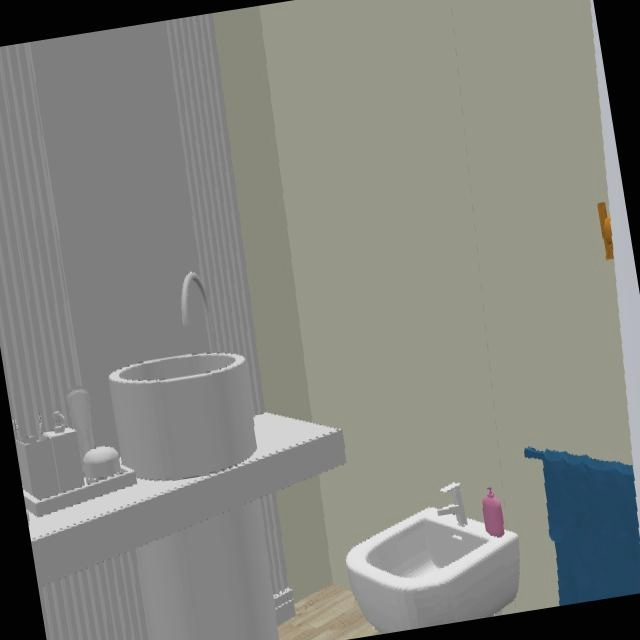shower: (613, 129, 640, 538)
washbasin: (106, 352, 263, 483), (345, 508, 448, 616)
